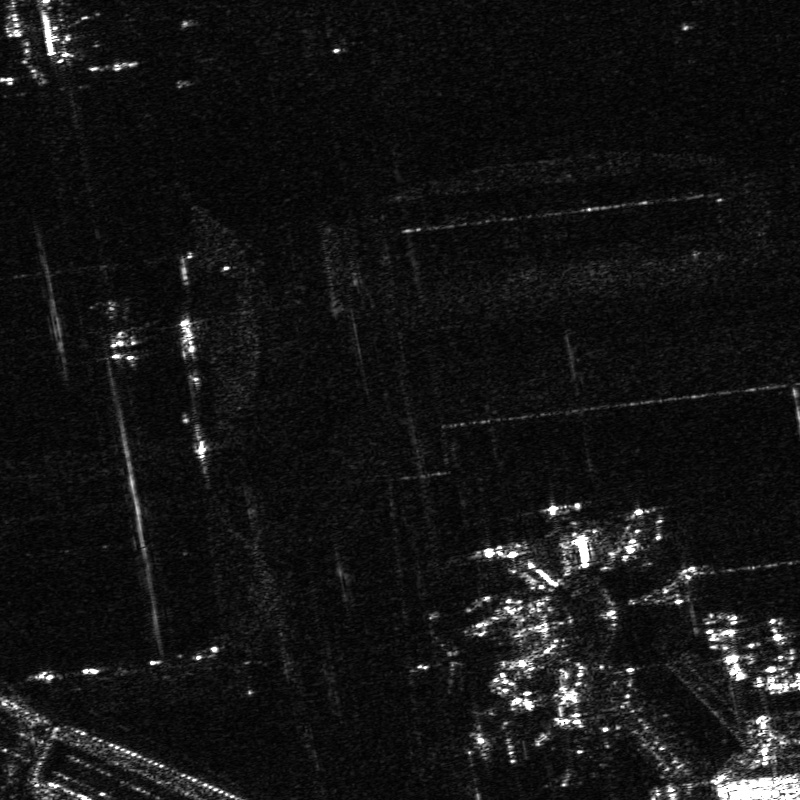A220: (404, 622, 474, 701)
